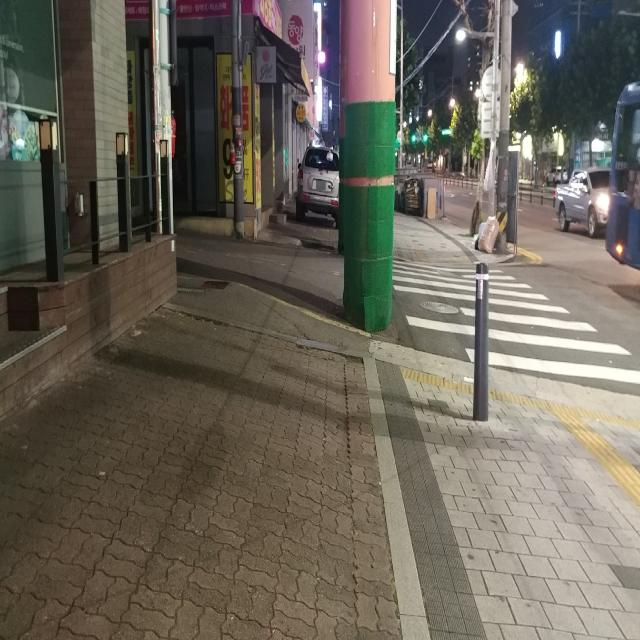횡단보도: (392, 259, 640, 386)
